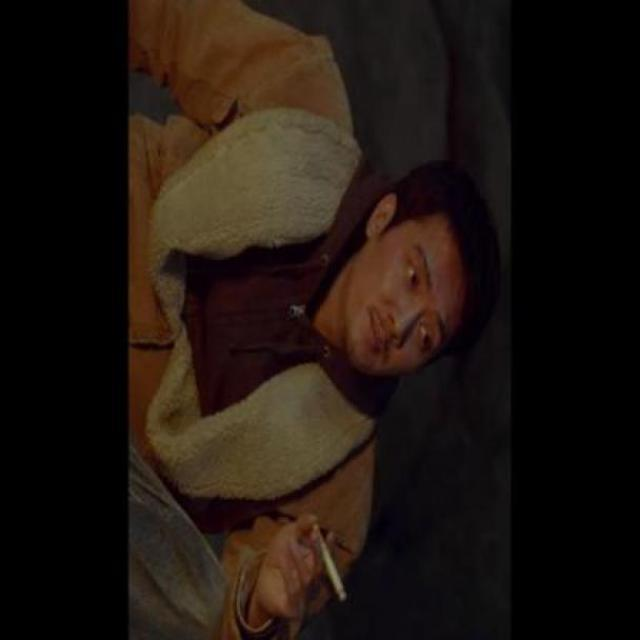rokok: (308, 517, 356, 609)
